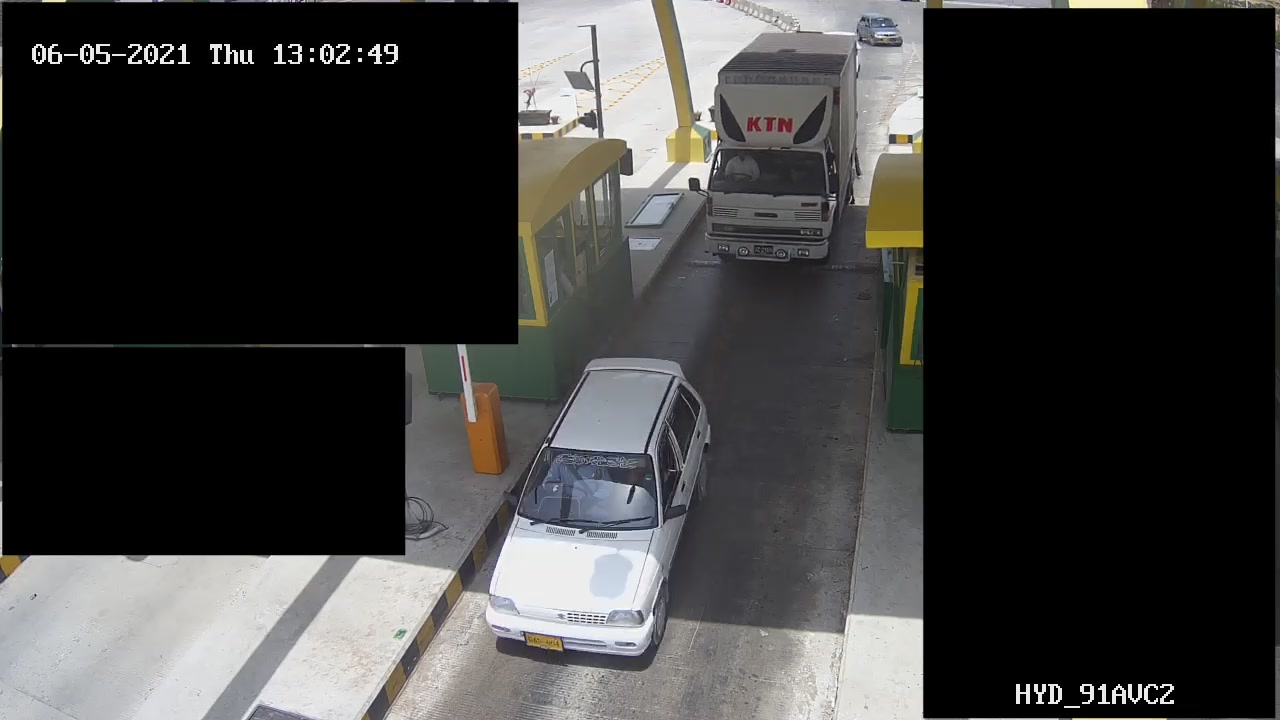F3: (694, 25, 871, 278)
